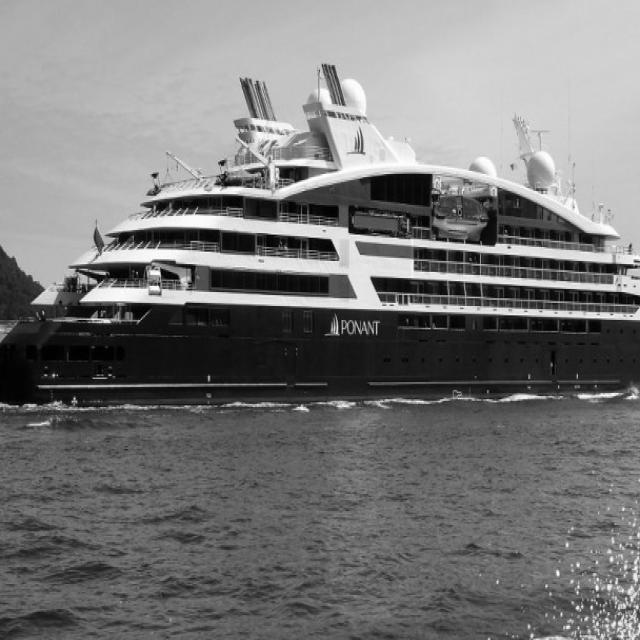cruises: (1, 54, 640, 420)
